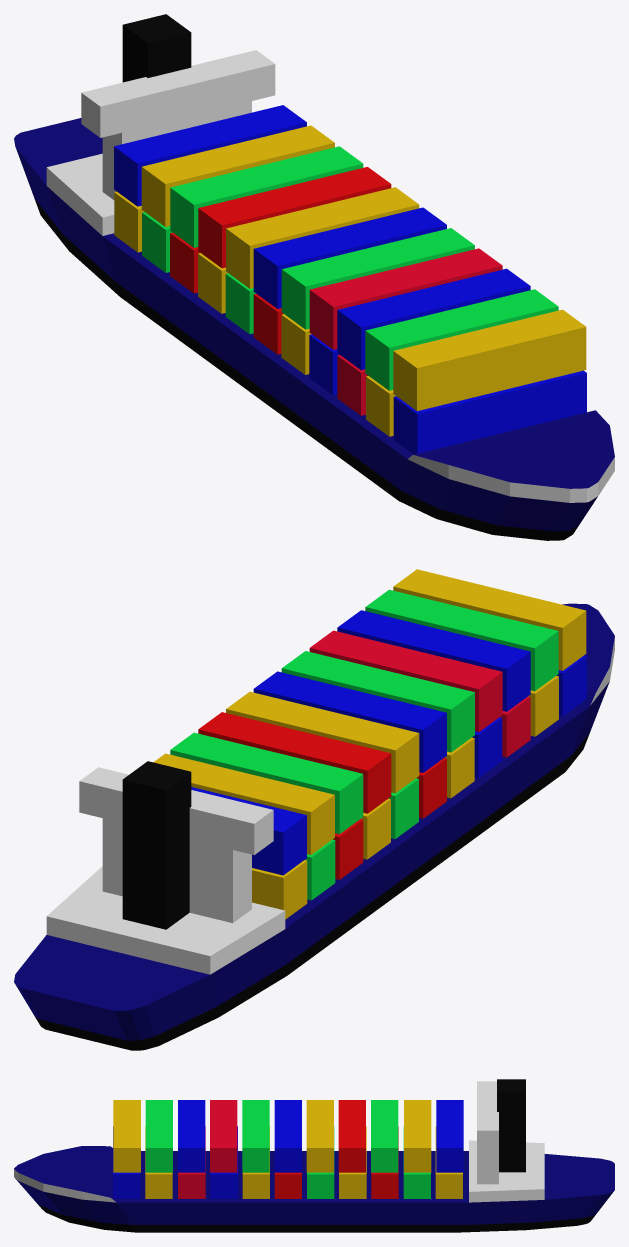
Rendered from container.glb.
3 views of the same model, one above another, from view 1: azimuth 30°, elevation 25°; view 2: azimuth 150°, elevation 25°; view 3: azimuth 270°, elevation 25° (orthographic). The views are drawn at different scales.
Visible parts, largest first — view 1: shipbase, Cube.023, Cube, Cube.012, Cube.011, Cube.021, Cube.017, Cube.020, Cube.022, Cube.019, Cube.018, Cube.016 (+13 smaller); view 2: shipbase, Cube, Cube.001, Cube.017, Cube.022, Cube.016, Cube.015, Cube.023, Cube.021, Cube.019, Cube.018, Cube.020 (+13 smaller); view 3: shipbase, Cube.001, Cube, Cube.011, Cube.014, Cube.015, Cube.016, Cube.017, Cube.018, Cube.019, Cube.020, Cube.021 (+13 smaller).
Boxes of the visible parts, <box> form: shipbase: <box>14,118,614,540</box>; Cube.023: <box>393,309,586,410</box>; Cube: <box>81,50,275,199</box>; Cube.012: <box>393,370,586,454</box>; Cube.011: <box>141,125,334,226</box>; Cube.021: <box>337,268,530,370</box>; Cube.017: <box>170,146,363,247</box>; Cube.020: <box>253,207,446,308</box>; Cube.022: <box>365,289,558,390</box>; Cube.019: <box>281,228,474,329</box>; Cube.018: <box>309,248,502,349</box>; Cube.016: <box>198,167,391,268</box>; shipbase: <box>14,603,614,1050</box>; Cube: <box>79,767,273,923</box>; Cube.001: <box>122,761,191,929</box>; Cube.017: <box>170,732,363,834</box>; Cube.022: <box>365,589,558,691</box>; Cube.016: <box>198,712,391,813</box>; Cube.015: <box>226,691,419,793</box>; Cube.023: <box>393,569,586,670</box>; Cube.021: <box>337,610,530,711</box>; Cube.019: <box>281,651,474,752</box>; Cube.018: <box>309,630,502,731</box>; Cube.020: <box>253,671,446,772</box>; shipbase: <box>14,1140,614,1232</box>; Cube.001: <box>497,1079,525,1172</box>; Cube: <box>477,1081,498,1184</box>; Cube.011: <box>404,1100,431,1172</box>; Cube.014: <box>436,1100,463,1172</box>; Cube.015: <box>306,1100,333,1172</box>; Cube.016: <box>338,1100,365,1172</box>; Cube.017: <box>371,1100,398,1172</box>; Cube.018: <box>210,1100,237,1172</box>; Cube.019: <box>242,1100,269,1172</box>; Cube.020: <box>274,1100,301,1172</box>; Cube.021: <box>178,1100,205,1172</box>.
Size of the model in its own units: 17.98 by 20.14 by 88.75.
